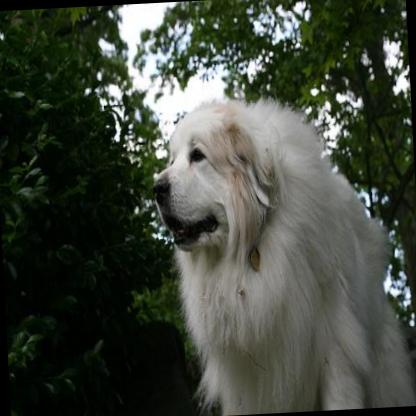Great_Pyrenees: (147, 87, 416, 416)
